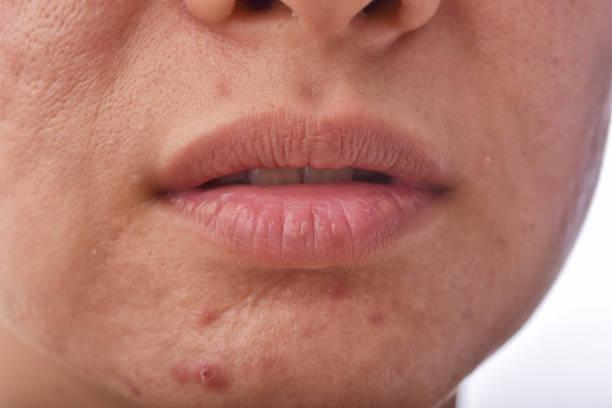Dry-Skin: (164, 292, 459, 407), (36, 227, 219, 360), (24, 19, 157, 160), (222, 53, 298, 233), (486, 41, 604, 131), (481, 196, 593, 281), (381, 58, 453, 112)
